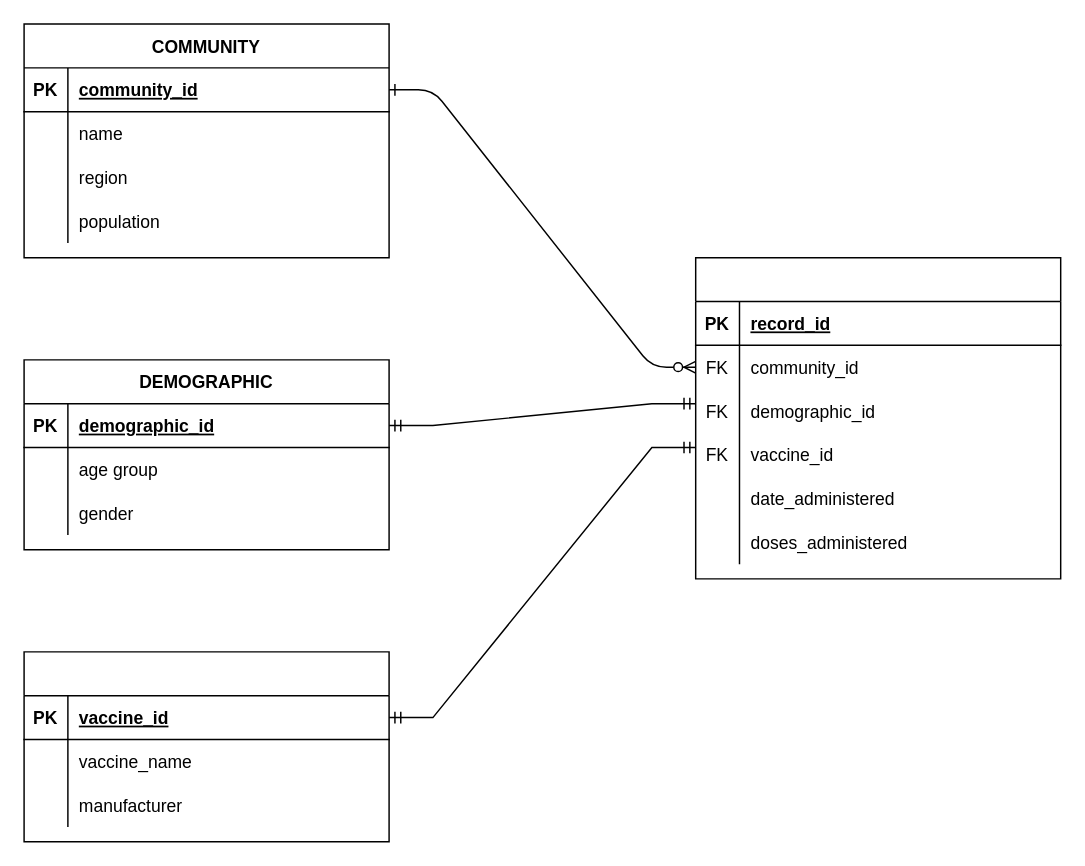
The diagram is 1085 pixels wide and 866 high, and some of its shapes have lost their labels. Here are the shapes that lost their labels. From the top down, the box of each, then its label:
(694, 256, 1061, 579): VACCINATION_RECORD
(23, 650, 389, 842): VACCINATION_TYPE
